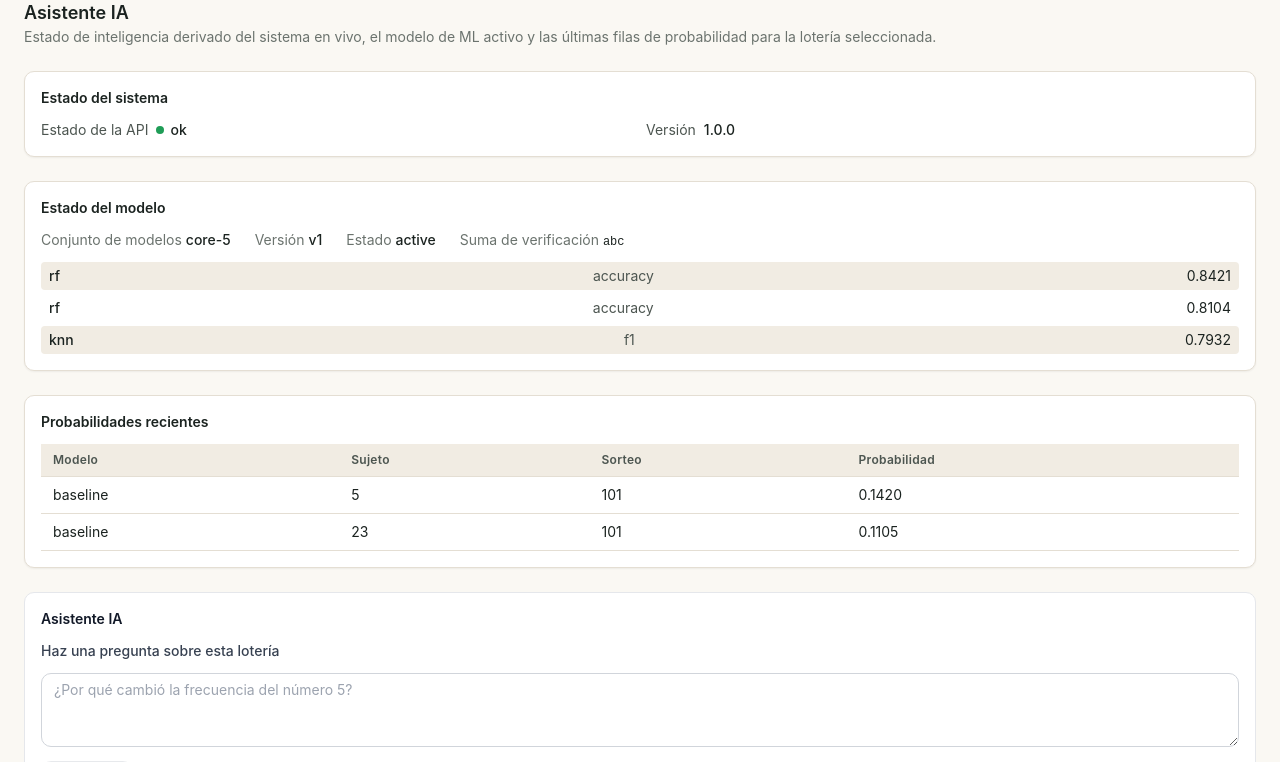
Test: IA › shows an error with retry for the assistant panel and recovers
The width and height of the screenshot is (1280, 762).
Expected: the text "ok" is shown, left=156, top=120, right=187, bottom=140
Type "¿Qué significa?" into the text box labelled "Haz una pregunta sobre esta lotería" at point(640, 710), box left=41, top=673, right=1239, bottom=747
(page scrolled)
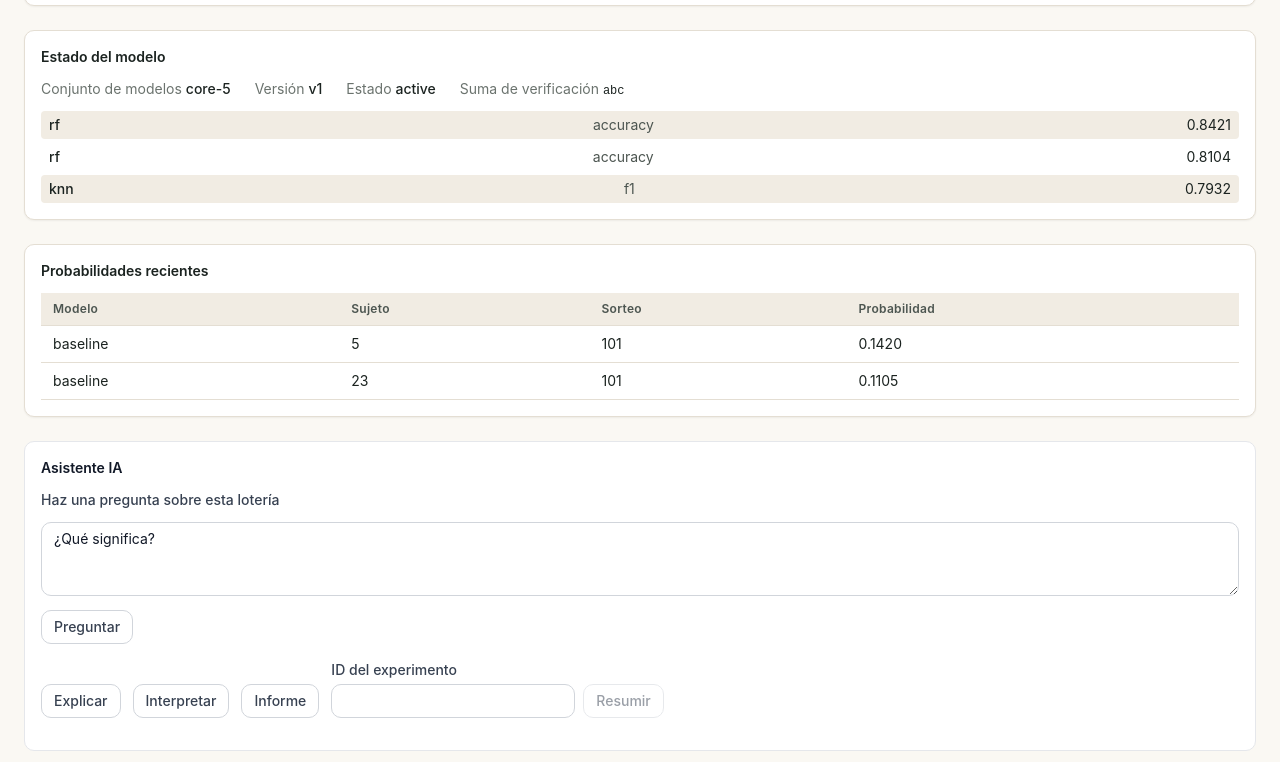
Click the button "Preguntar" at point(87, 627), box left=41, top=610, right=133, bottom=644
(page scrolled)
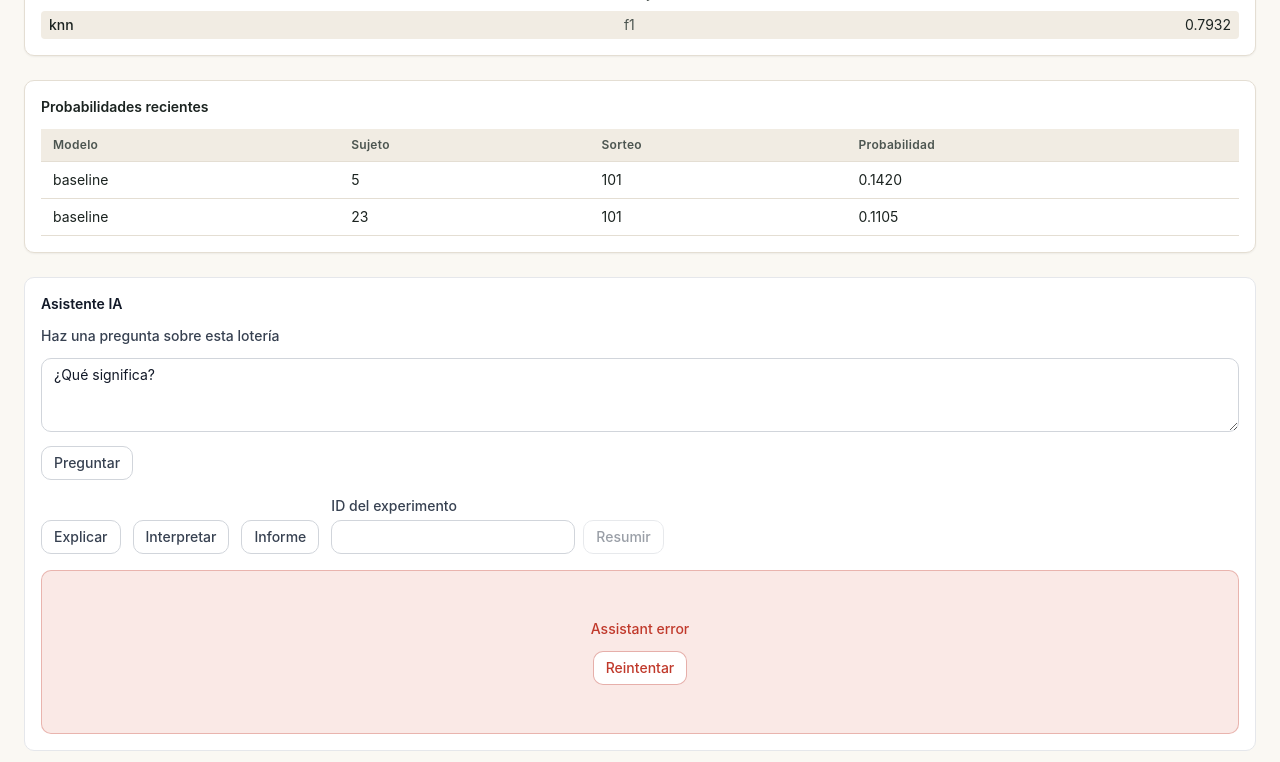
Expected: the message shows "Assistant error", left=591, top=620, right=689, bottom=637
Click the button "Reintentar" at point(640, 668), box left=593, top=651, right=687, bottom=685
(page scrolled)
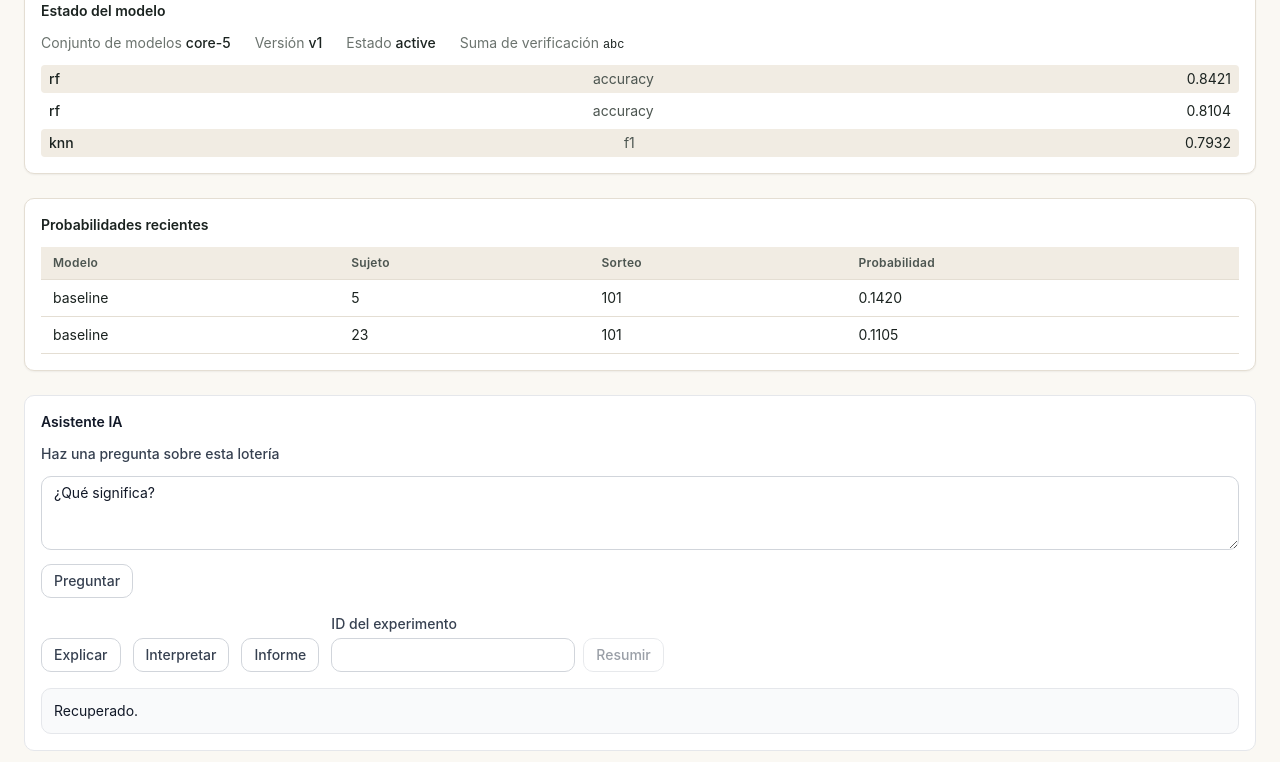
Expected: the text "Recuperado." is shown, left=54, top=702, right=138, bottom=719
Expected: the message "Assistant error Reintentar" is gone
